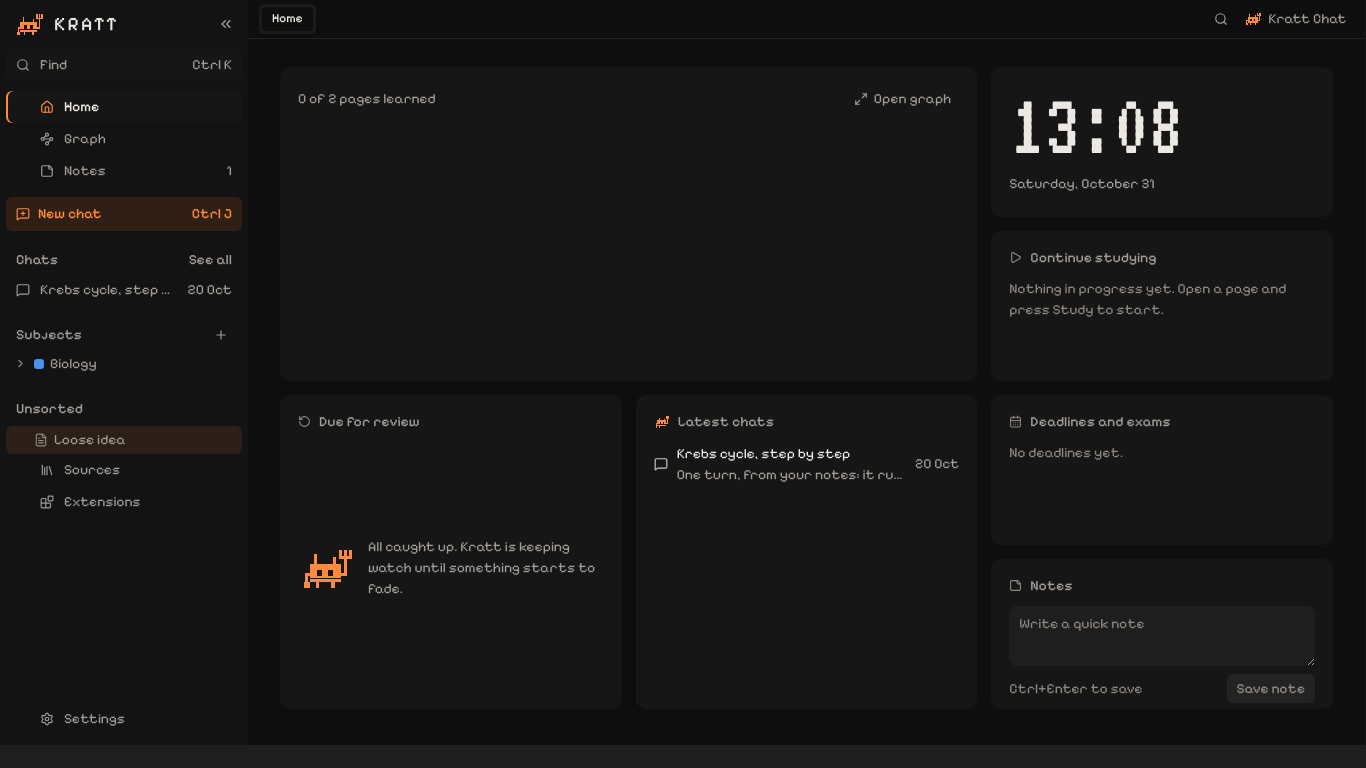
Test: sidebar copy, paste and delete keys › says so when the copied item was deleted
Press c in the list item "Loose idea", box [6,426,242,454]
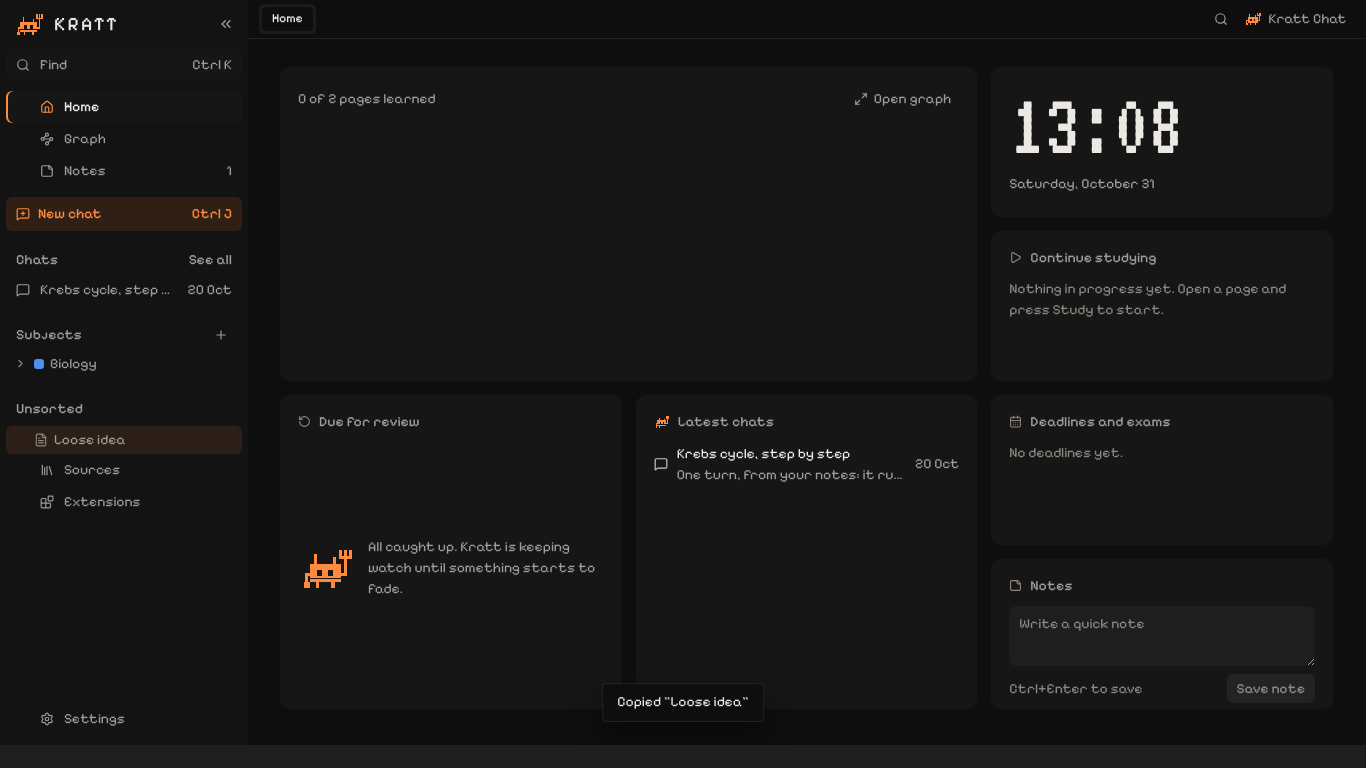
Press Delete in the list item "Loose idea", box [6,426,242,454]
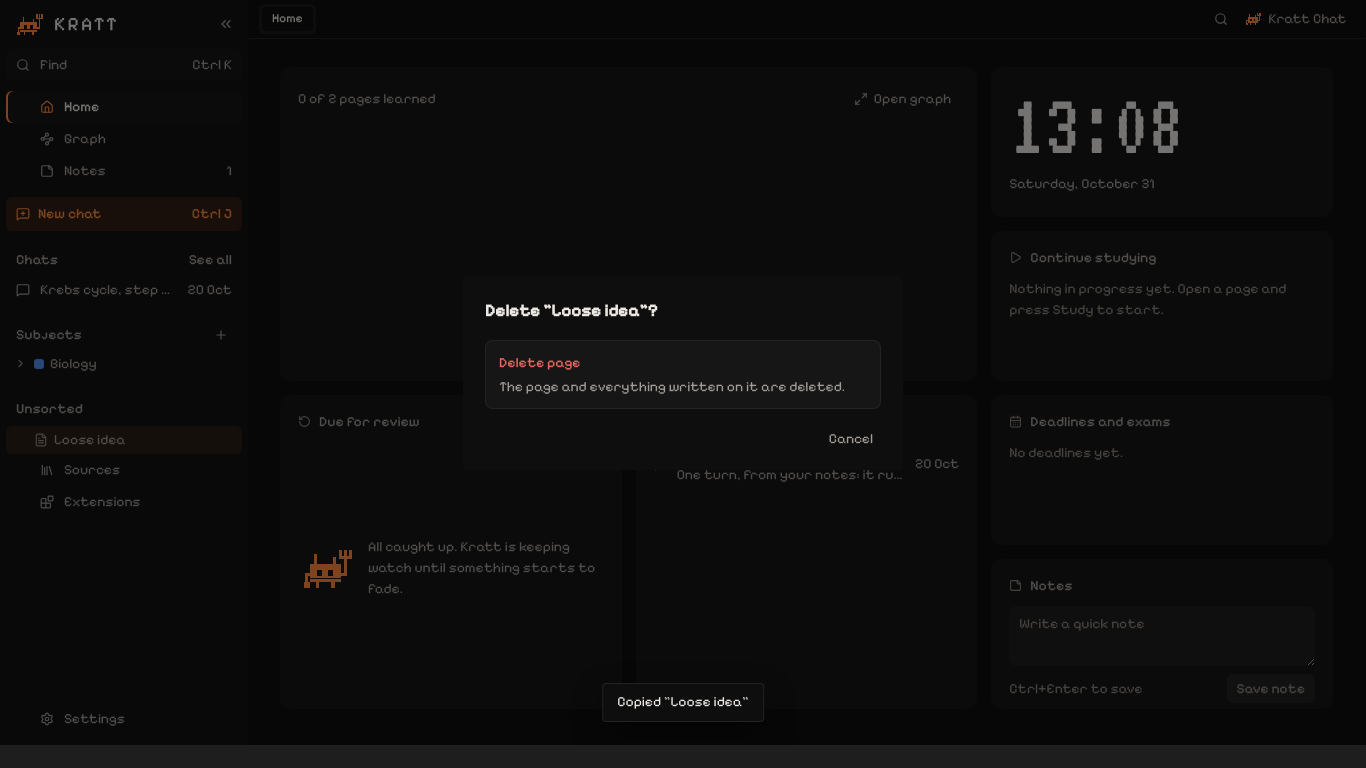
Click the button "Delete": (540, 362) [485,339,881,408]
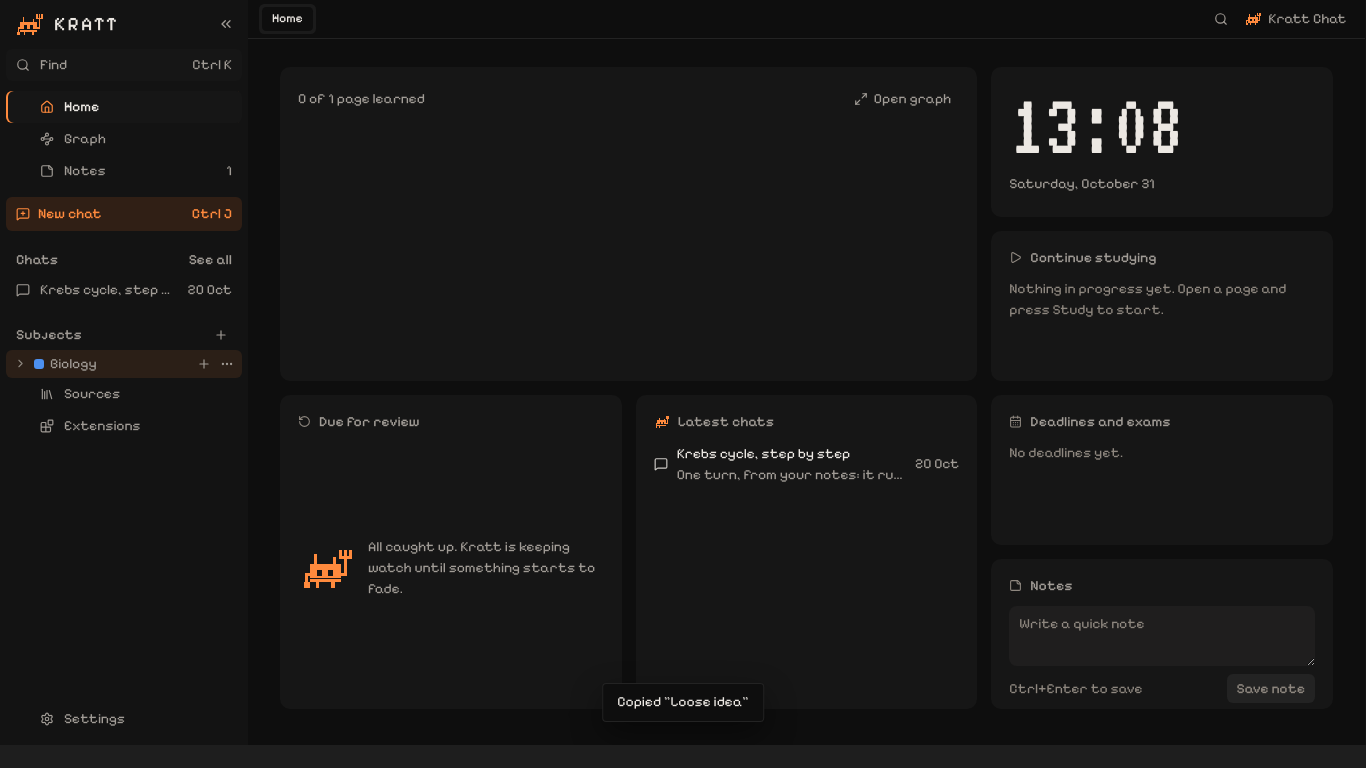
Press v in the list item "Biology", box [6,350,242,378]
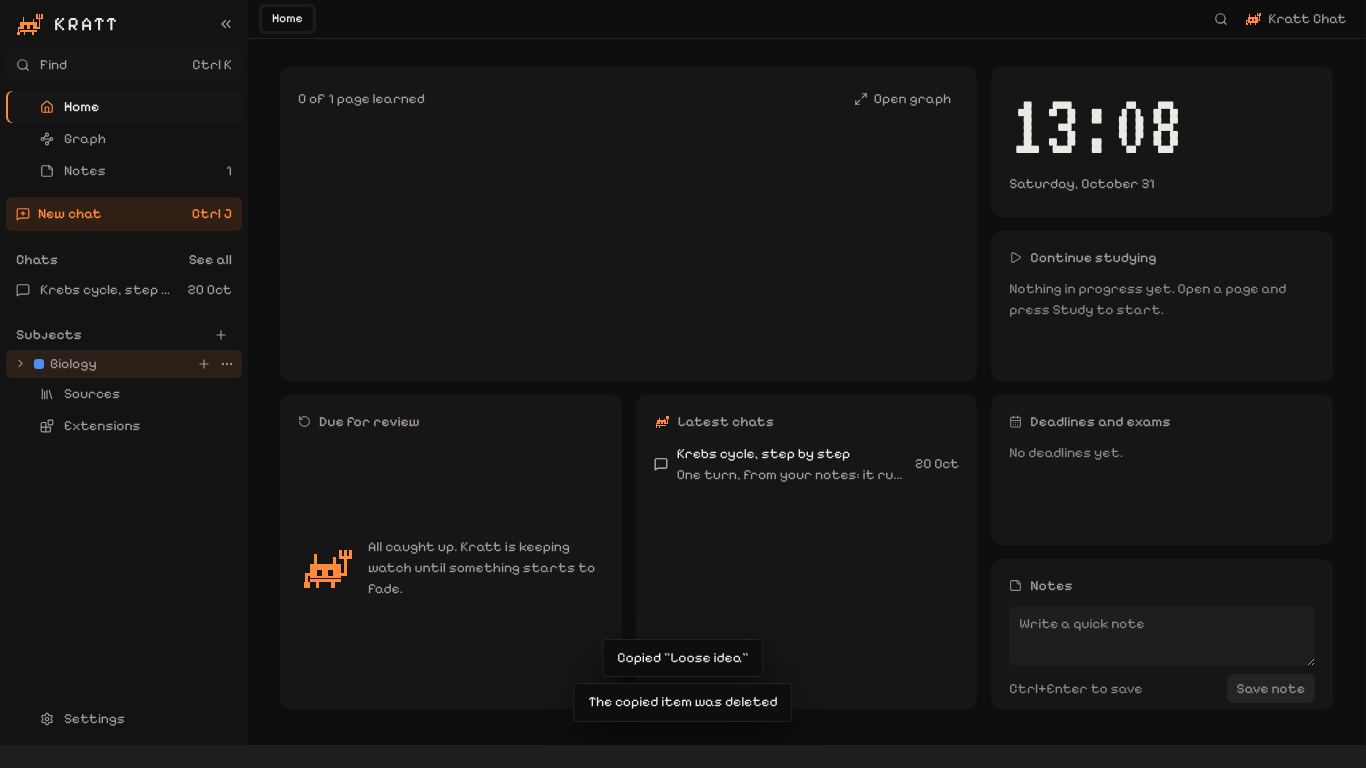
Expected: the text "The copied item was deleted" is shown, [588,692,778,712]
